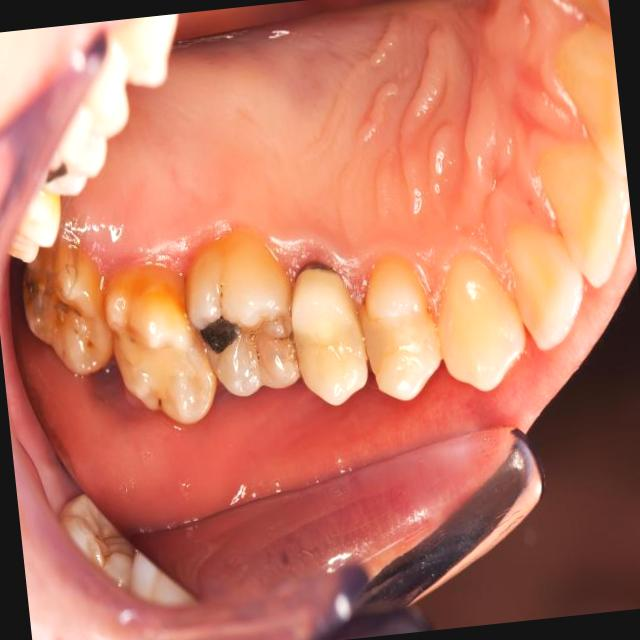caries: (182, 242, 299, 400), (102, 276, 214, 432), (18, 244, 112, 382), (58, 492, 136, 586)
